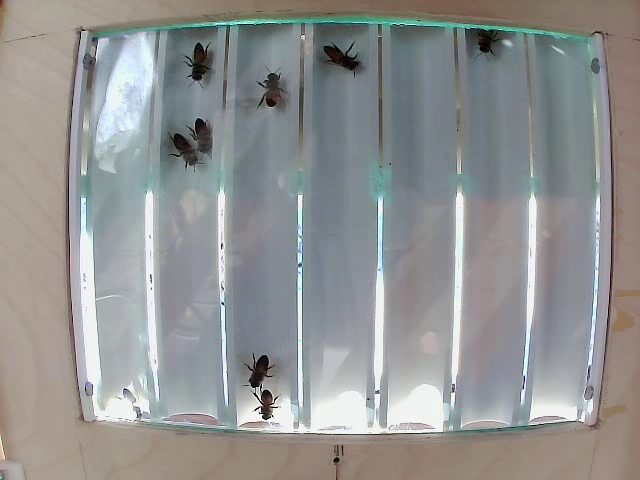bee: (238, 343, 284, 390), (256, 68, 289, 115), (318, 43, 365, 76), (187, 115, 217, 160), (185, 38, 208, 96), (168, 136, 201, 175), (471, 20, 502, 54), (251, 390, 275, 423)
